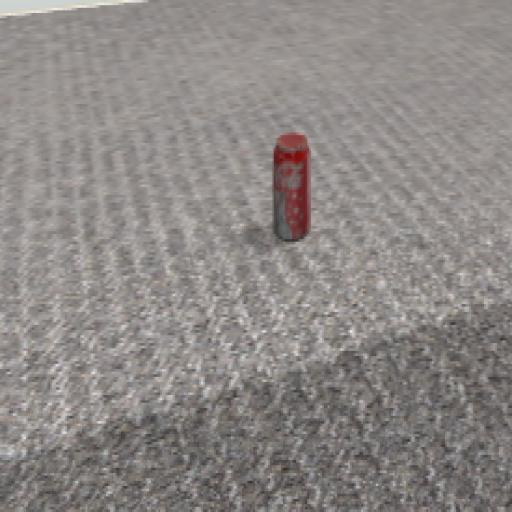COCA: (236, 78, 356, 284)
